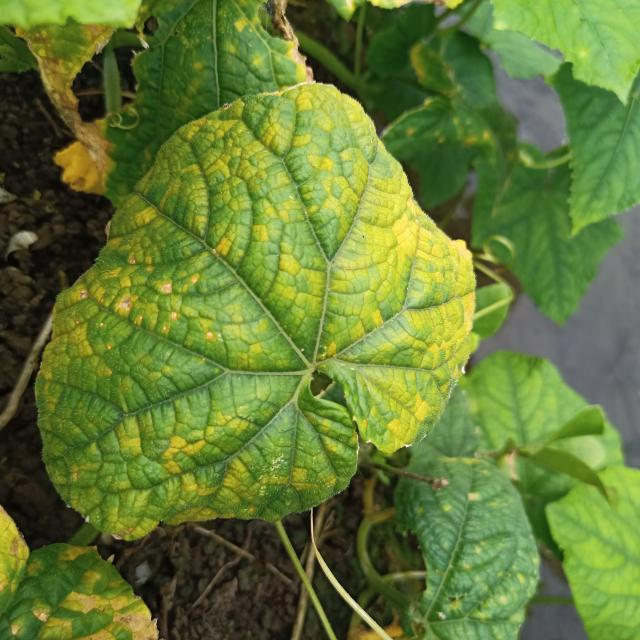disease_cucumber: (42, 86, 470, 518)
